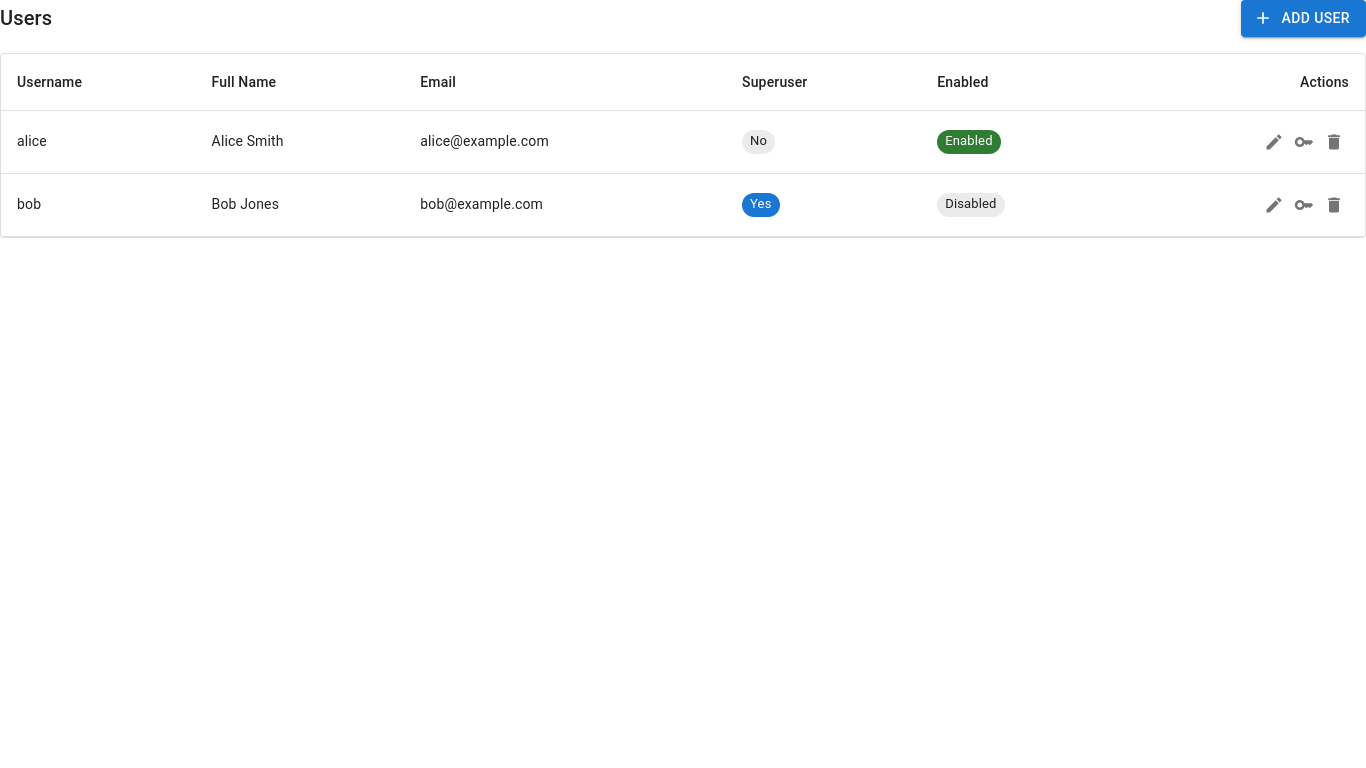
Scenario: AdminUsers › clicking reset password icon opens password reset dialog
The width and height of the screenshot is (1366, 768).
Expected: the text "alice" is shown, [1,110,196,173]
Step 1. Click the button named "reset password for alice" → [1304, 142], box [1289,126,1319,156]
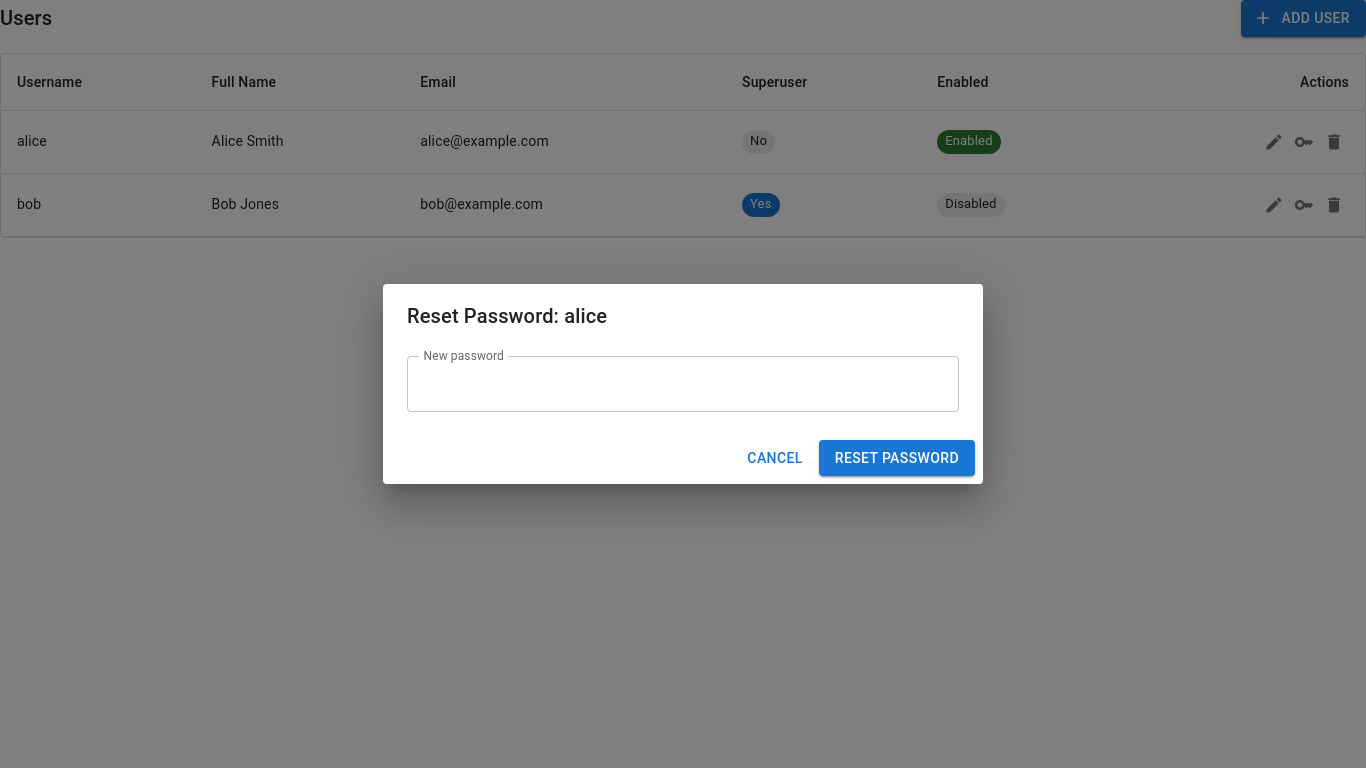
Result: the dialog "Reset Password: alice New password Cancel Reset Password" is shown at [383,284,983,484]
